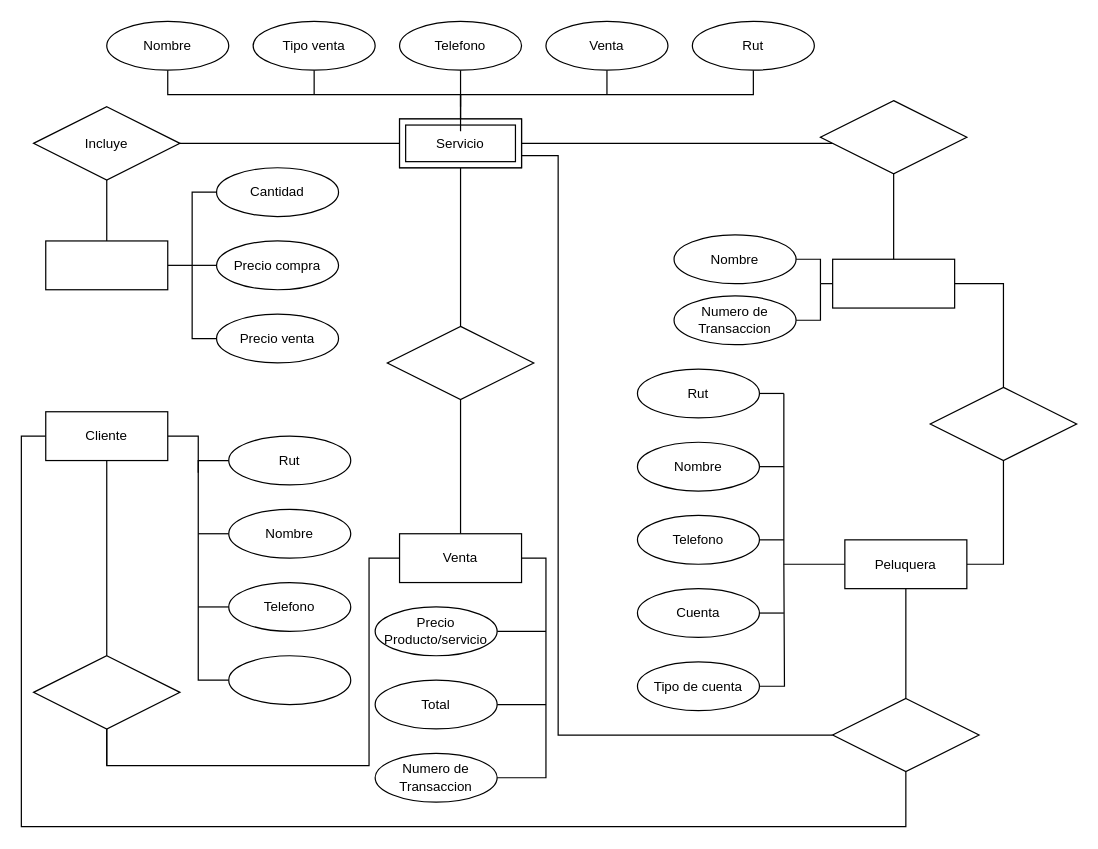
Some shapes in this 1098 by 849 pixel diagram are drawn without their labels. The centre of each missing label's shape, as x and y in pixels:
"Dirección" belongs at pixel 289 680.
"Producto" belongs at pixel 106 265.
"Proporciona" belongs at pixel 905 734.
"Realiza" belongs at pixel 106 692.
"Se utiliza" belongs at pixel 893 136.
"Se vende" belongs at pixel 460 362.
"Usa" belongs at pixel 1003 423.
"Utiles" belongs at pixel 893 283.
